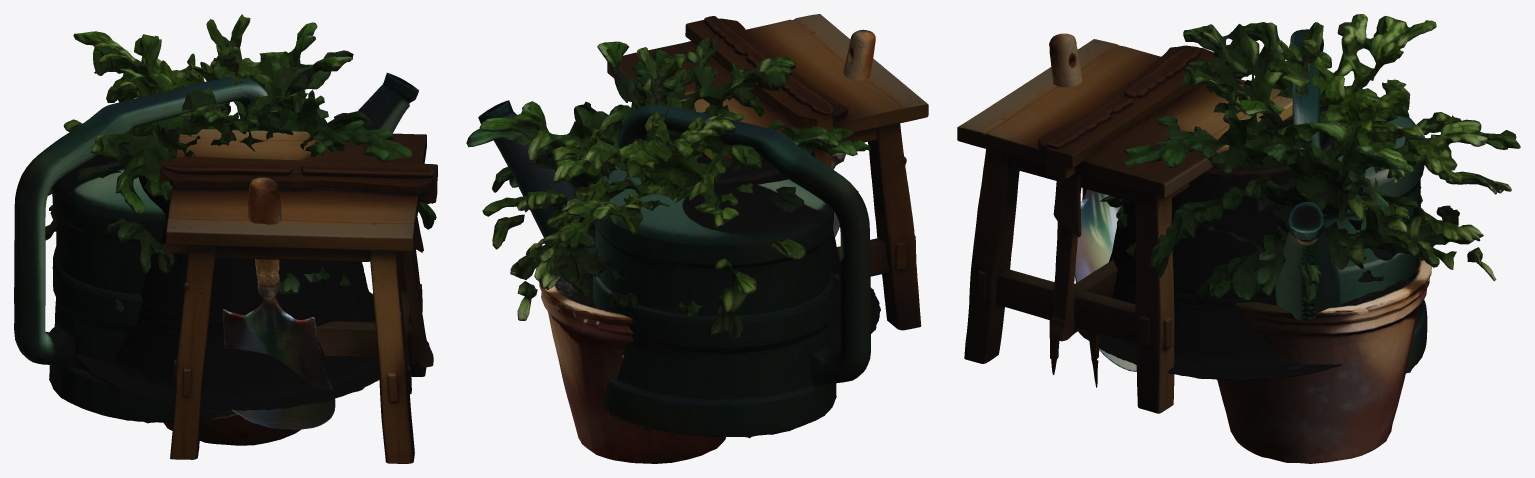
The model's file is scenegen.glb.
3 views of the same model, side by side, from view 1: azimuth 30°, elevation 25°; view 2: azimuth 150°, elevation 25°; view 3: azimuth 270°, elevation 25° (orthographic). The views are drawn at different scales.
Parts seen in each view (by area): view 1: geometry_3, geometry_0, geometry_1, geometry_4, geometry_2; view 2: geometry_0, geometry_1, geometry_3, geometry_4, geometry_2; view 3: geometry_1, geometry_3, geometry_4, geometry_0, geometry_2.
Boxes of the visible parts, x1,y1,x2,y2 form: geometry_3: (160, 129, 437, 463); geometry_0: (14, 72, 418, 423); geometry_1: (45, 14, 436, 445); geometry_4: (75, 122, 379, 410); geometry_2: (222, 177, 335, 429); geometry_0: (478, 100, 870, 438); geometry_1: (466, 37, 870, 463); geometry_3: (607, 14, 928, 330); geometry_4: (644, 134, 880, 351); geometry_2: (830, 29, 875, 237); geometry_1: (1099, 14, 1520, 463); geometry_3: (957, 39, 1292, 413); geometry_4: (1078, 107, 1342, 380); geometry_0: (1216, 29, 1427, 379); geometry_2: (1049, 33, 1136, 371).
Bounding box in the file's own units: 1.61 × 1.53 × 1.96.
Materials: 5 (5 with a texture image).
